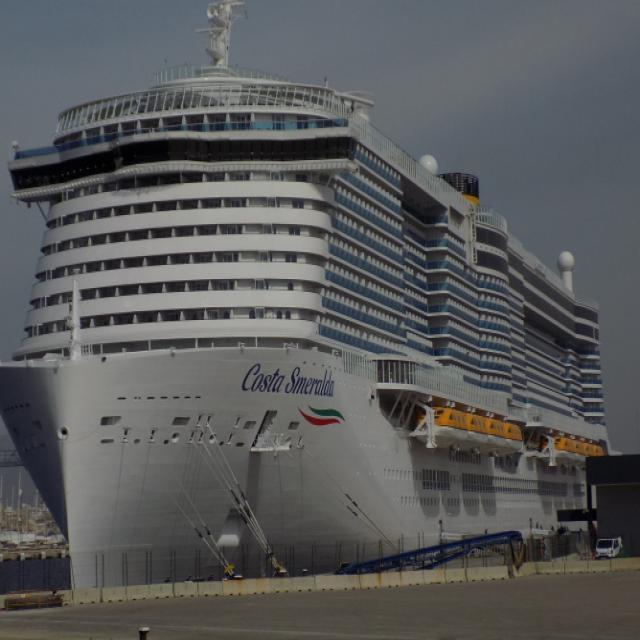cruises: (1, 1, 617, 601)
